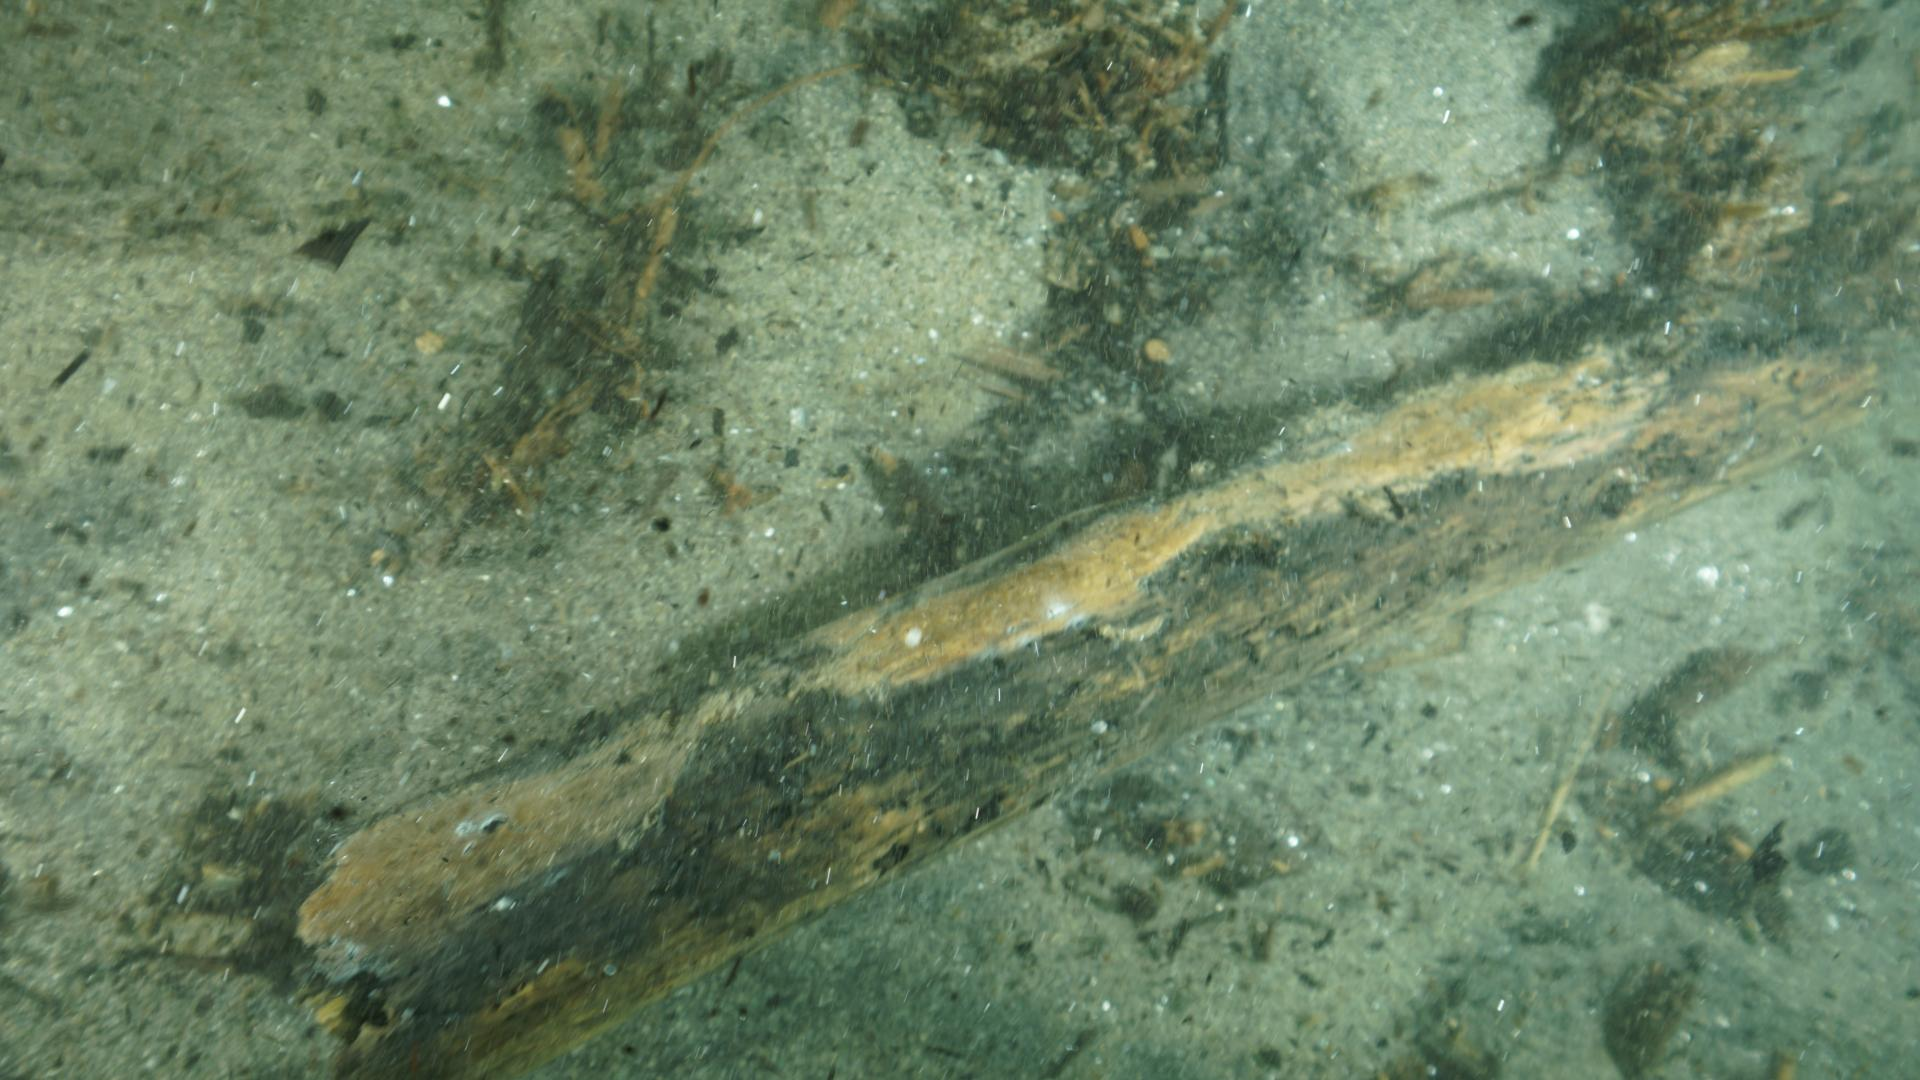wood: (282, 281, 1869, 1080)
